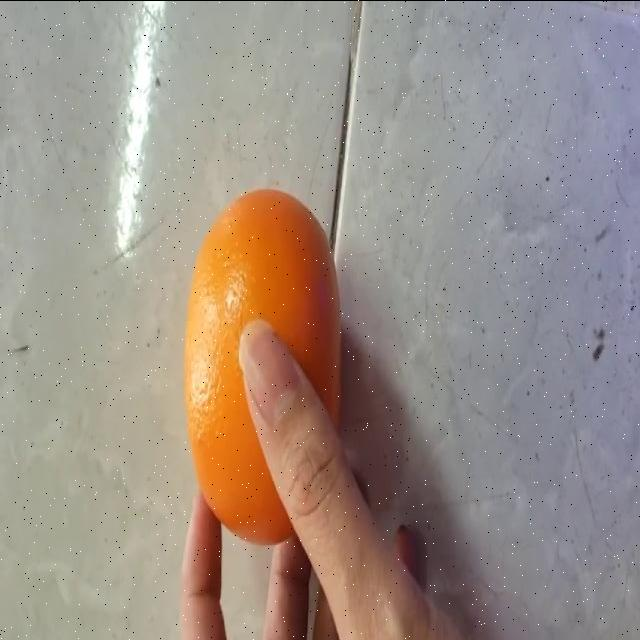Orange: (181, 187, 344, 546)
